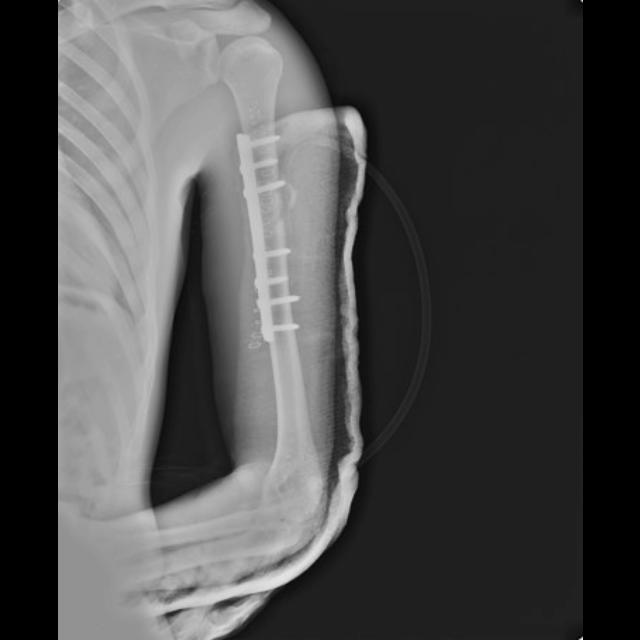Fracture: (259, 204, 283, 240)
